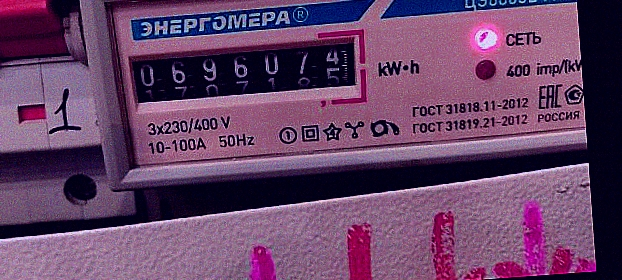0: (137, 60, 156, 87), (262, 48, 280, 76)
4: (324, 43, 339, 65)
5: (325, 65, 341, 85)
6: (167, 57, 187, 83), (231, 51, 249, 79)
7: (293, 47, 311, 74)
9: (199, 55, 218, 82)
screen: (121, 25, 372, 119)
